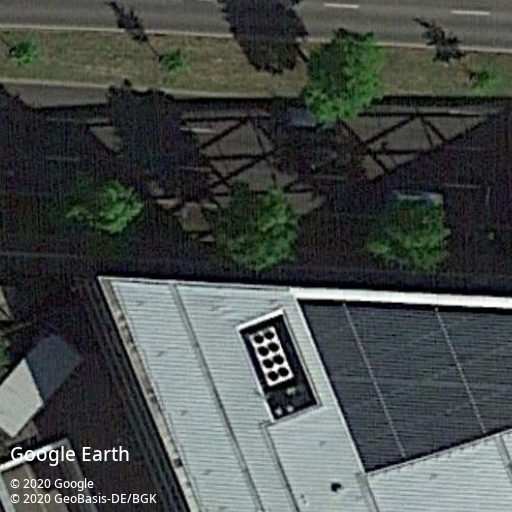Chiller: (246, 326, 295, 387)
